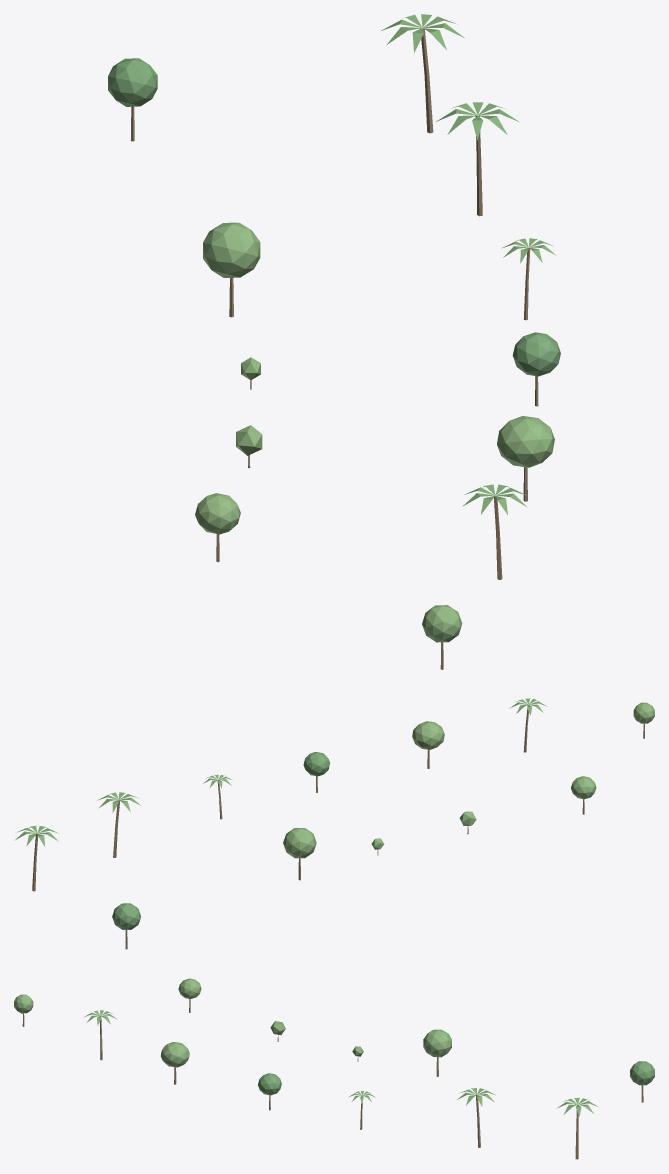
The model's file is nature_6_-7.glb.
The picture shows the model from 3 angles, top to bottom: view 1: azimuth 30°, elevation 25°; view 2: azimuth 150°, elevation 25°; view 3: azimuth 270°, elevation 25°; orthographic projection. The views are drawn at different scales.
Parts seen in each view (by area): view 1: foliage_b, foliage_a, palm_leaf, trunk; view 2: foliage_b, foliage_a, palm_leaf, trunk; view 3: foliage_b, palm_leaf, foliage_a, trunk.
Boxes of the visible parts, box(x1,y1,x2,y2) form: foliage_b: box(195, 222, 554, 642); foliage_a: box(108, 58, 560, 376); palm_leaf: box(381, 14, 555, 514); trunk: box(131, 28, 538, 669); foliage_b: box(283, 702, 654, 858); foliage_a: box(112, 752, 329, 929); palm_leaf: box(14, 698, 547, 846); trunk: box(32, 705, 644, 949); foliage_b: box(14, 978, 451, 1067); palm_leaf: box(84, 1010, 597, 1116); foliage_a: box(258, 1061, 654, 1095); trunk: box(22, 999, 643, 1159).
Size of the model in its own units: 54.38 by 8.75 by 92.94.
